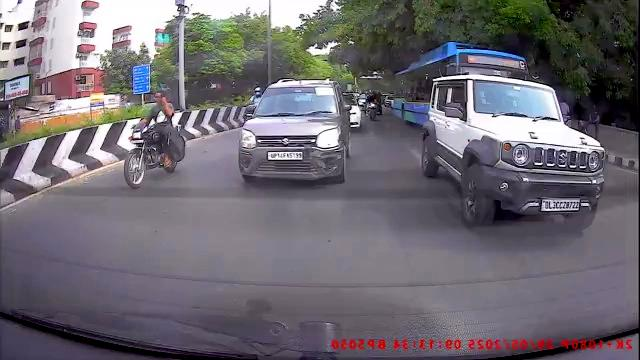motorcycle_without_helmet: (123, 88, 187, 190)
